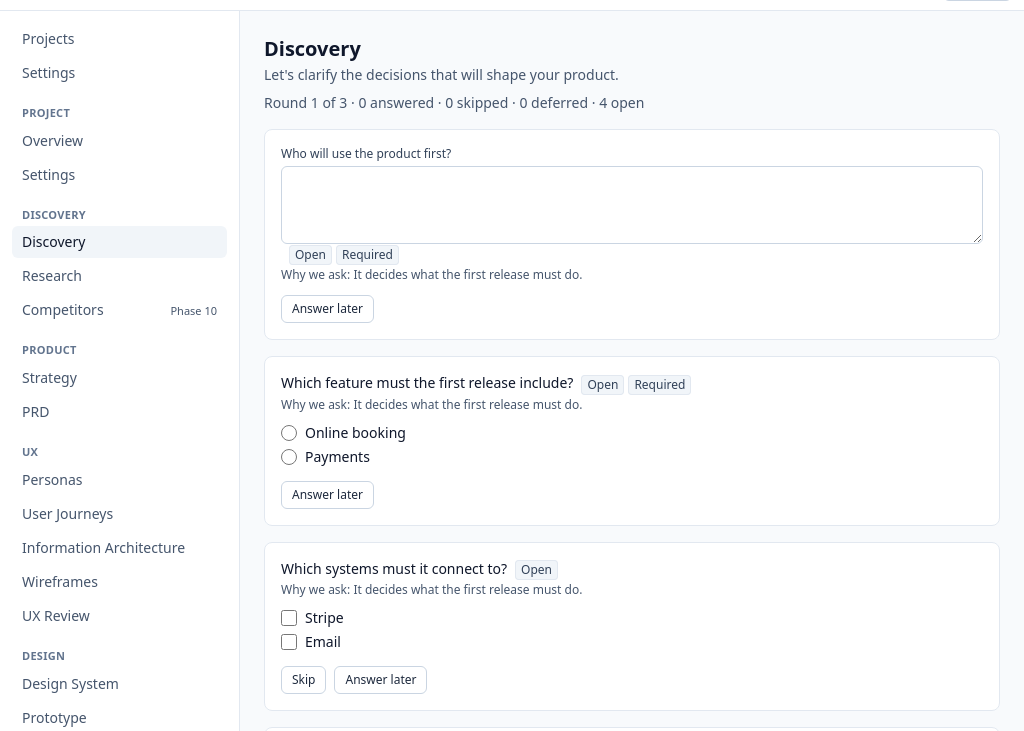
Scenario: rendering and answering › shows the server's per-question validation errors and keeps what was typed
The image size is (1024, 731).
In the text box labelled "Who will use the product first?": (632, 205) [281,166,983,244], type "Photographers"
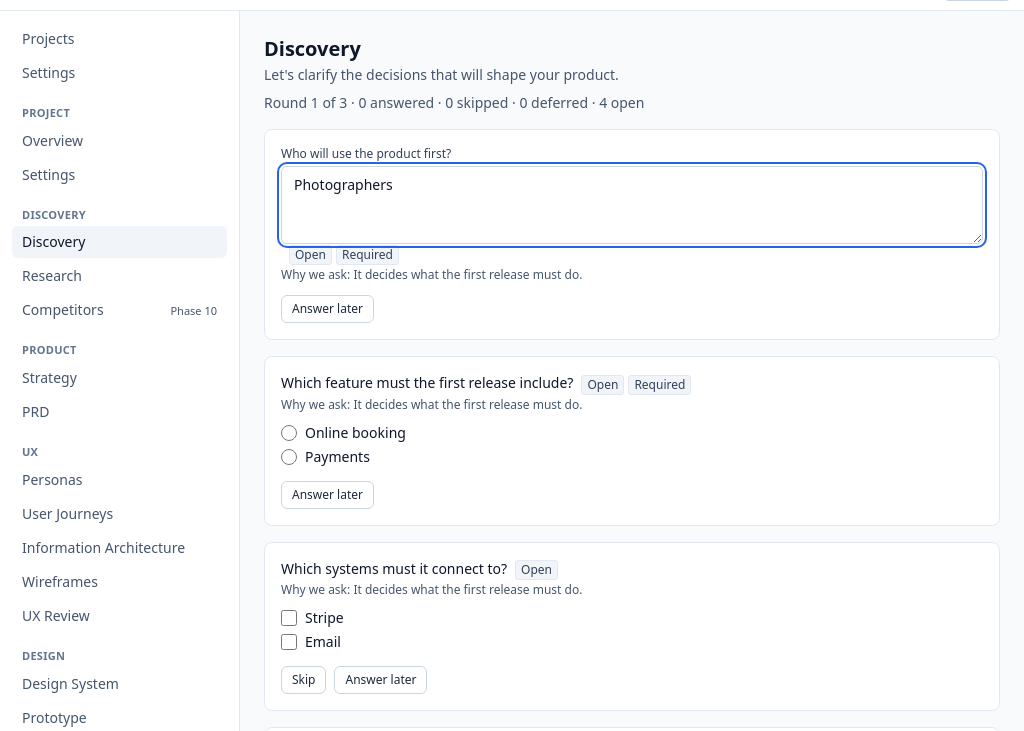
Click the radio button labelled "Payments": (289, 456) [281,448,297,464]
(page scrolled)
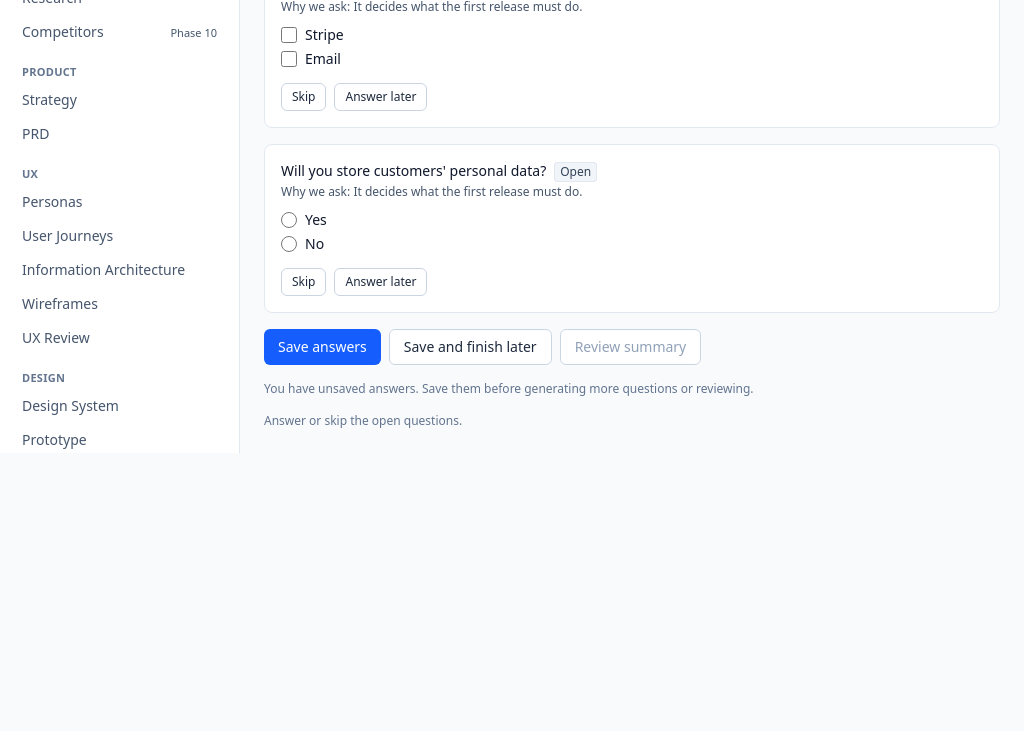
Click the button "Save answers": (322, 347) [264,329,381,365]
(page scrolled)
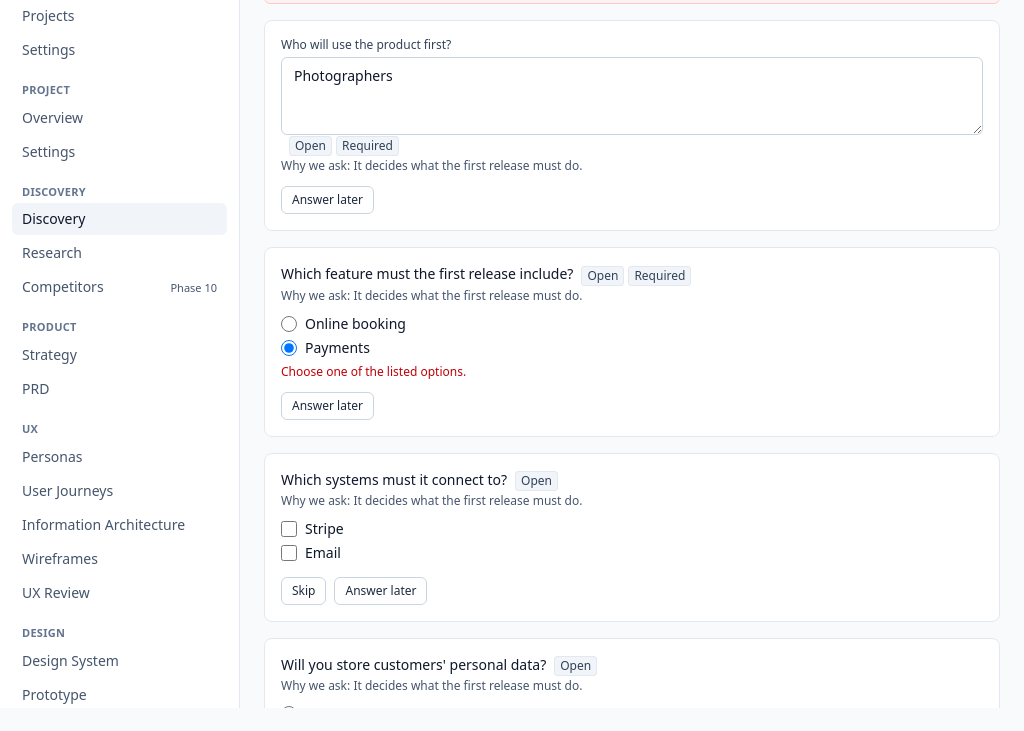
Result: the radio button labelled "Payments" is checked at [281,340,297,356]
Result: the text "Choose one of the listed options." is shown at [281,362,466,380]
